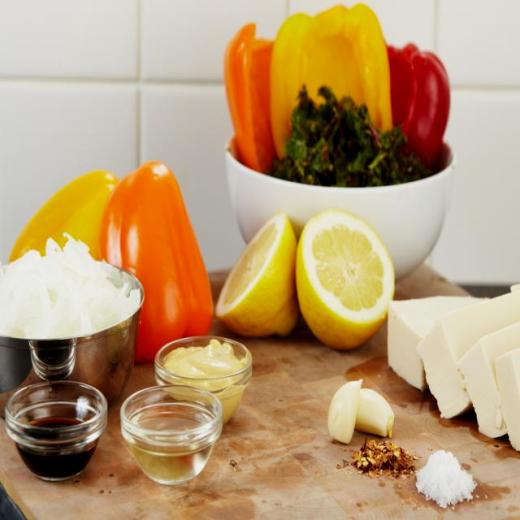Grape: (294, 214, 388, 346), (220, 207, 304, 340)
